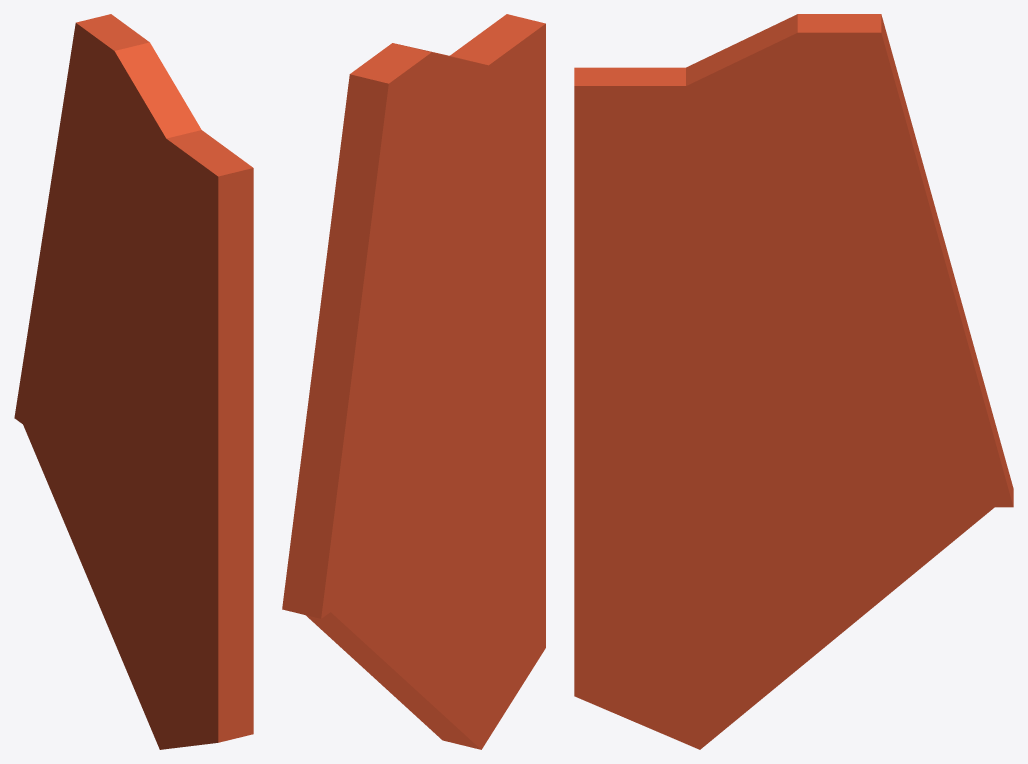
Rendered from mask2.fbx.
3 views of the same model, side by side, from view 1: azimuth 30°, elevation 25°; view 2: azimuth 150°, elevation 25°; view 3: azimuth 270°, elevation 25° (orthographic). The views are drawn at different scales.
Parts seen in each view (by area): view 1: Cube; view 2: Cube; view 3: Cube.
Boxes of the visible parts, box(x1,y1,x2,y2) form: Cube: box(14, 14, 253, 749); Cube: box(282, 14, 545, 749); Cube: box(574, 14, 1013, 749).
Size of the model in its own units: 9.87 by 177 by 98.29.
